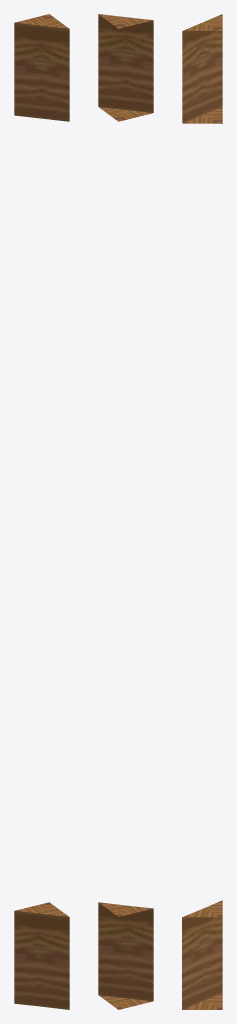
Rendered from corner_exterior_topdown.glb.
3 views of the same model, side by side, from view 1: azimuth 30°, elevation 25°; view 2: azimuth 210°, elevation 25°; view 3: azimuth 270°, elevation 25° (orthographic).
Bounding box in the file's own units: 0.0929 × 2.47 × 0.0929.
1 material, 1 textured.
